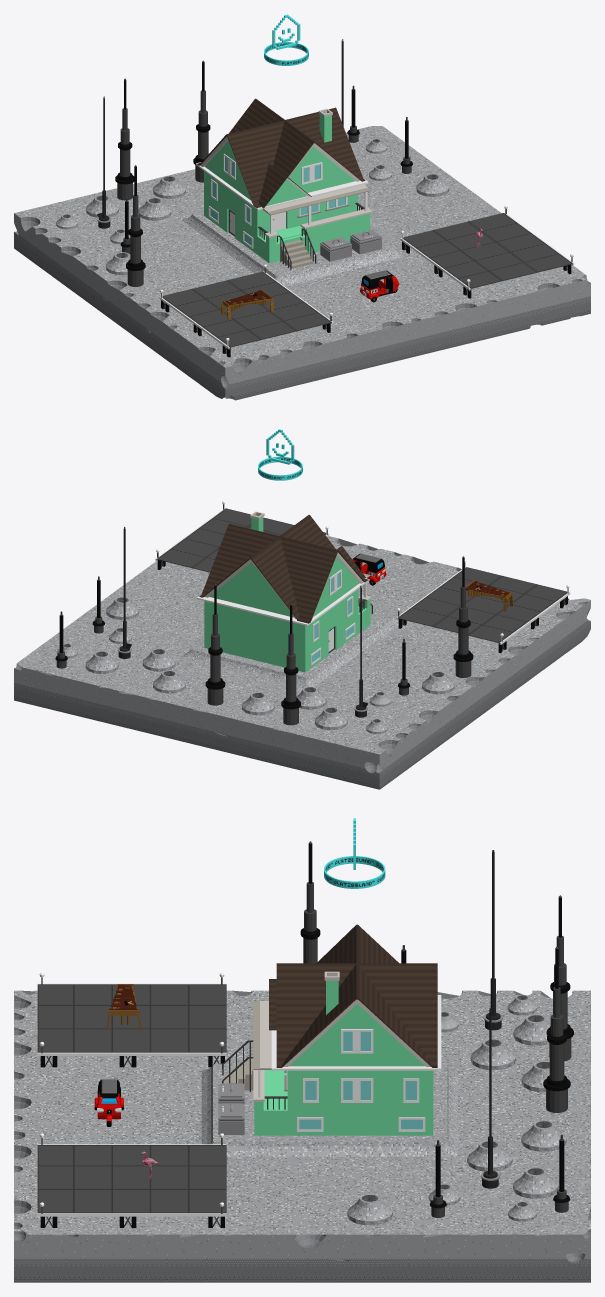
3 renders of one model, top to bottom at view 1: azimuth 30°, elevation 25°; view 2: azimuth 150°, elevation 25°; view 3: azimuth 270°, elevation 25°, orthographic. The views are drawn at different scales.
Parts seen in each view (by area): view 1: Cube.027, Cube.352, Cube.026, Cube.025, Cube.028, Cylinder.021, Cylinder.020, Cylinder.017, TYPE_PREMIUM, VEHICLES_TUC_TUC, OBJRANDOM_MARIMBA, Cube.029 (+4 smaller); view 2: Cube.027, Cube.352, Cube.025, Cube.028, Cube.026, Cylinder.017, Cylinder.021, Cylinder.020, TYPE_PREMIUM, VEHICLES_TUC_TUC, OBJRANDOM_MARIMBA, Cylinder.030 (+8 smaller); view 3: Cube.027, Cube.352, Cube.026, Cube.025, Cube.028, Cylinder.017, Cylinder.020, Cylinder.021, TYPE_PREMIUM, Cylinder.033, Cylinder.031, VEHICLES_TUC_TUC (+11 smaller).
Part boxes in pixels (left/top/right/bottom): Cube.027: left=14, top=126, right=590, bottom=400; Cube.352: left=196, top=98, right=372, bottom=269; Cube.026: left=400, top=205, right=574, bottom=298; Cube.025: left=159, top=264, right=333, bottom=357; Cube.028: left=182, top=211, right=403, bottom=286; Cylinder.021: left=126, top=165, right=145, bottom=286; Cylinder.020: left=115, top=78, right=134, bottom=200; Cylinder.017: left=193, top=60, right=210, bottom=182; TYPE_PREMIUM: left=264, top=14, right=308, bottom=65; VEHICLES_TUC_TUC: left=360, top=270, right=399, bottom=302; OBJRANDOM_MARIMBA: left=221, top=289, right=274, bottom=319; Cube.029: left=320, top=237, right=351, bottom=261; Cube.027: left=14, top=536, right=590, bottom=789; Cube.352: left=197, top=511, right=372, bottom=672; Cube.025: left=396, top=560, right=570, bottom=653; Cube.028: left=181, top=610, right=398, bottom=688; Cube.026: left=155, top=501, right=329, bottom=572; Cylinder.017: left=205, top=583, right=225, bottom=705; Cylinder.021: left=453, top=556, right=473, bottom=677; Cylinder.020: left=281, top=603, right=300, bottom=725; TYPE_PREMIUM: left=258, top=429, right=302, bottom=480; VEHICLES_TUC_TUC: left=352, top=553, right=386, bottom=585; OBJRANDOM_MARIMBA: left=466, top=580, right=513, bottom=611; Cylinder.030: left=142, top=648, right=175, bottom=671; Cube.027: left=14, top=990, right=590, bottom=1282; Cube.352: left=222, top=924, right=441, bottom=1135; Cube.026: left=37, top=1133, right=226, bottom=1227; Cube.025: left=37, top=973, right=226, bottom=1067; Cube.028: left=201, top=1063, right=457, bottom=1156; Cylinder.017: left=543, top=946, right=570, bottom=1112; Cylinder.020: left=546, top=895, right=573, bottom=1061; Cylinder.021: left=300, top=841, right=320, bottom=963; TYPE_PREMIUM: left=324, top=818, right=385, bottom=888; Cylinder.033: left=347, top=1194, right=392, bottom=1225; Cylinder.031: left=513, top=1167, right=558, bottom=1198; VEHICLES_TUC_TUC: left=94, top=1079, right=123, bottom=1126.
Bounding box in the file's own units: 4000 × 2719 × 4000.
Materials: 42 (5 with a texture image).
